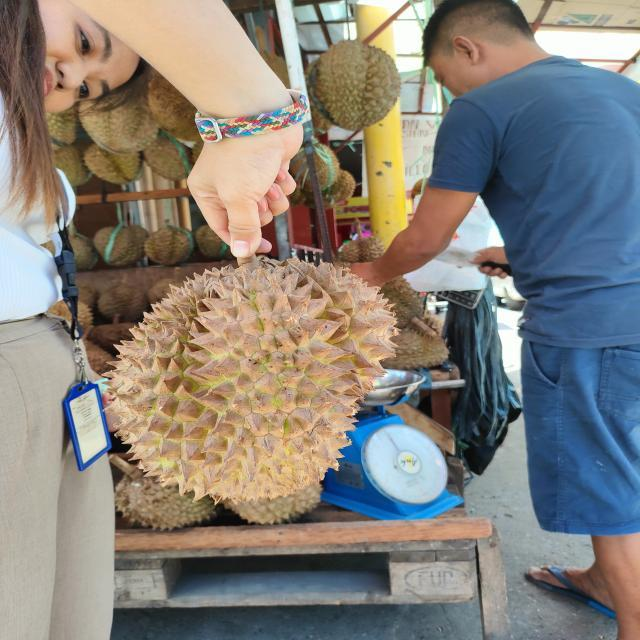mature: (102, 260, 403, 508)
